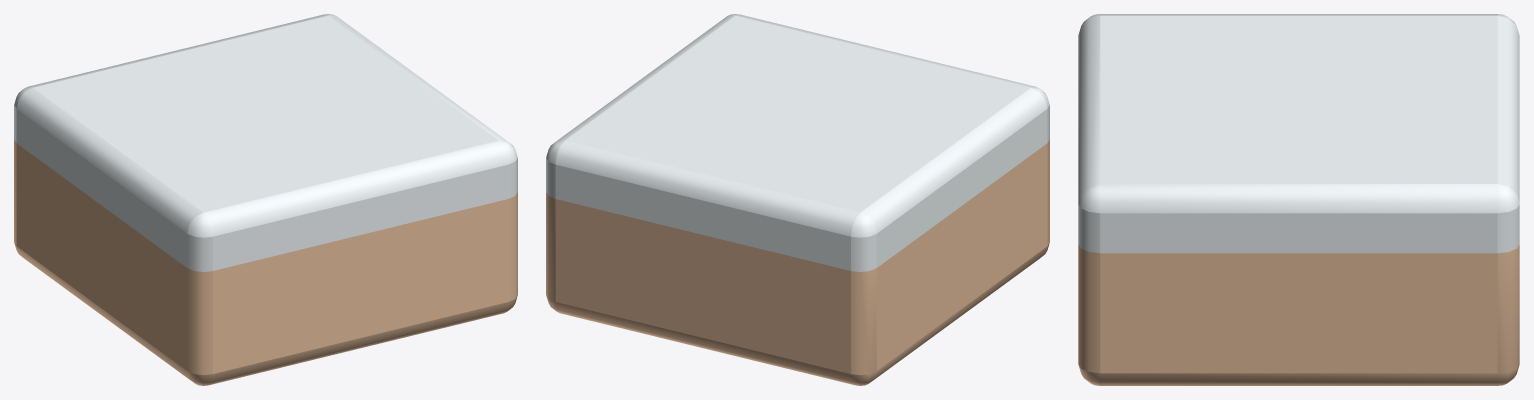
The picture shows the model from 3 angles, left to right: view 1: azimuth 30°, elevation 25°; view 2: azimuth 150°, elevation 25°; view 3: azimuth 270°, elevation 25°; orthographic projection. The views are drawn at different scales.
Visible parts, largest first — view 1: blockSnowRoundedLarge; view 2: blockSnowRoundedLarge; view 3: blockSnowRoundedLarge.
Boxes of the visible parts, <box> form: blockSnowRoundedLarge: <box>14,14,517,385</box>; blockSnowRoundedLarge: <box>546,14,1049,385</box>; blockSnowRoundedLarge: <box>1078,14,1519,385</box>.
Size of the model in its own units: 2 by 1 by 2.
